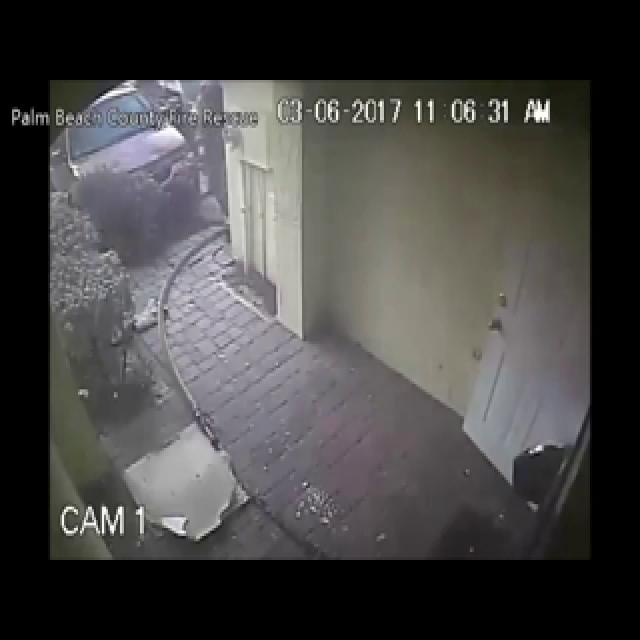explosion: (71, 82, 262, 440)
